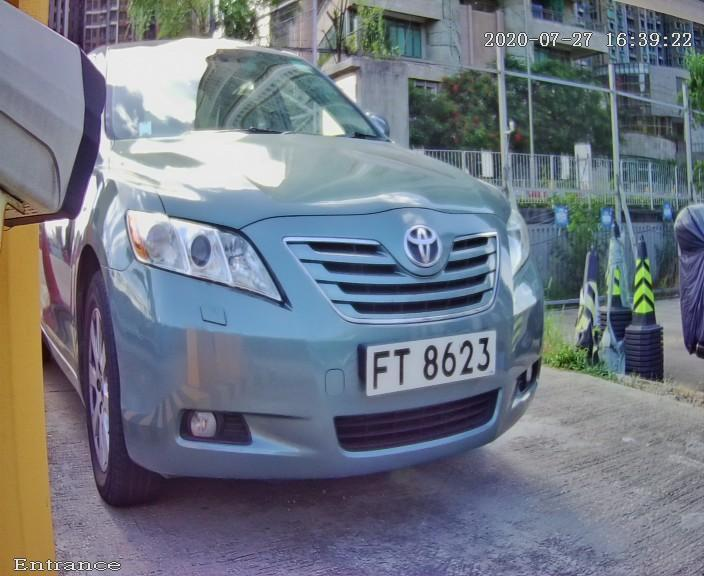privatecar: (32, 19, 604, 507)
